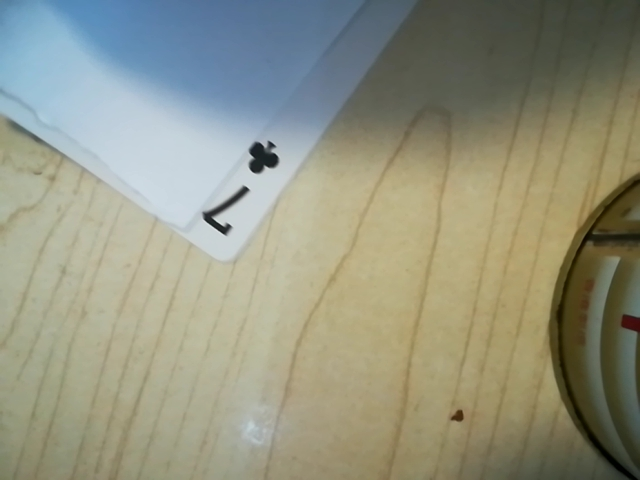mh 7: (189, 131, 293, 249)
